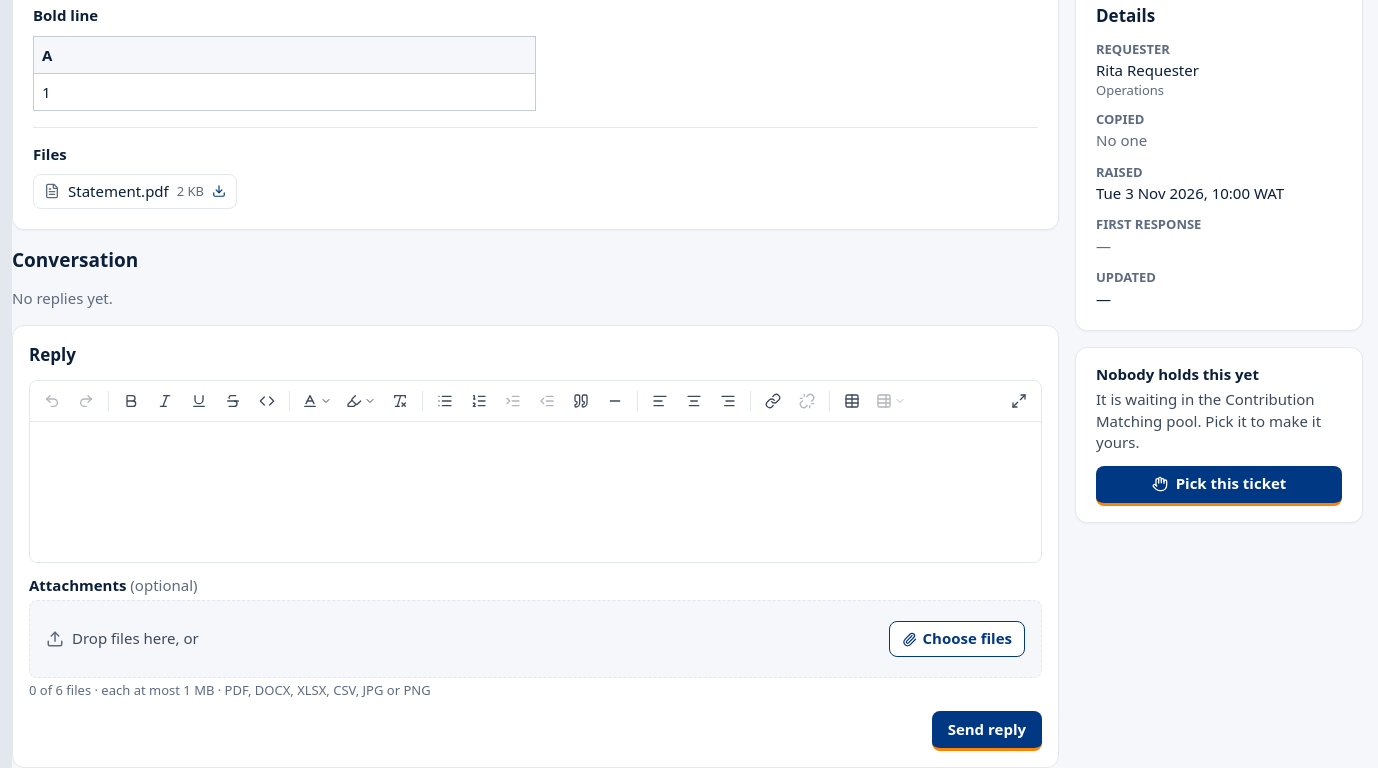
it: Pick this ticket › a member of the unit picks a New ticket and stays on it
(page scrolled)
What coordinates should you click on to do the following:
click the button "Pick this ticket"
I would click on:
 (1219, 486)
Its box is [1096,466,1342,506].
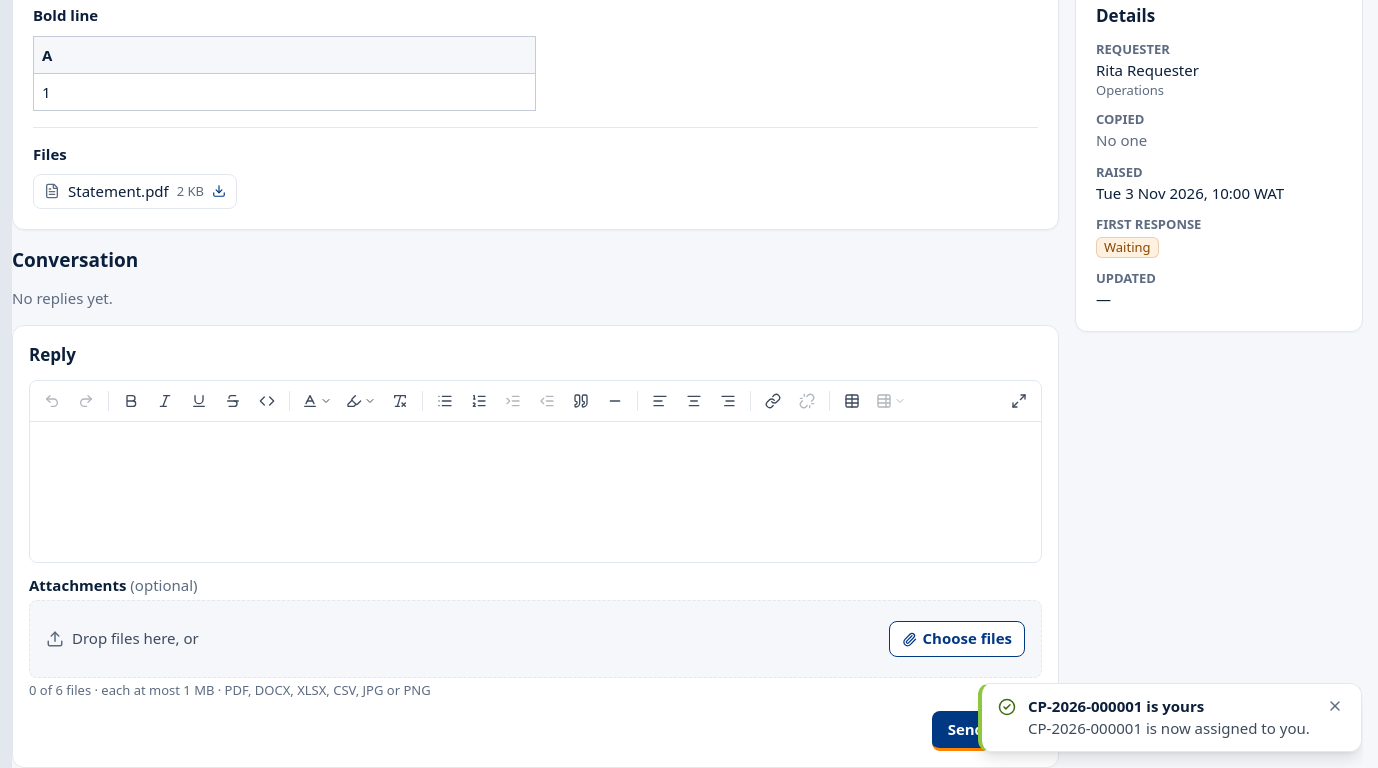
Check: the text "CP-2026-000001 is now assigned to you." is shown, box [1028,718,1313,739]
Check: the button "Pick this ticket" is gone
